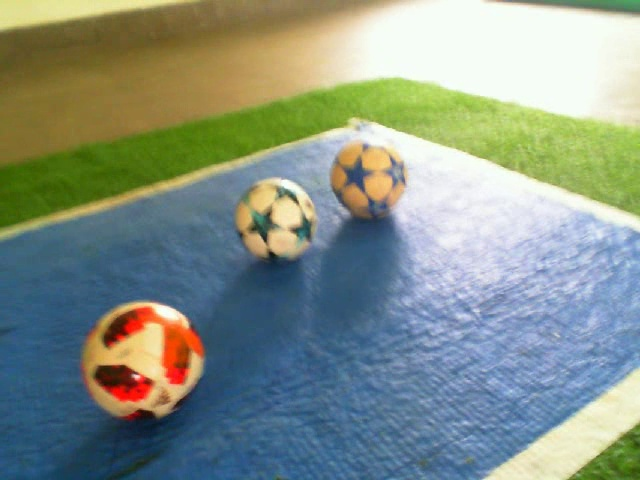ball: (78, 298, 209, 426), (231, 174, 320, 268), (327, 130, 411, 223)
